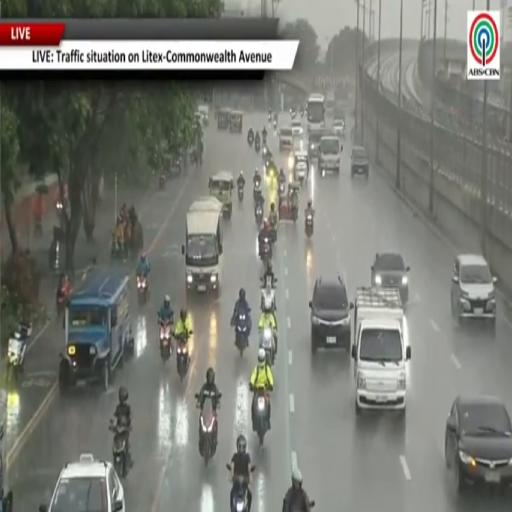bus: (307, 93, 325, 132)
car: (445, 396, 511, 492), (39, 454, 125, 511), (309, 277, 353, 354), (451, 254, 497, 325), (371, 252, 410, 305), (319, 135, 342, 175), (351, 147, 369, 178), (308, 132, 323, 158), (279, 127, 293, 150), (333, 117, 345, 138), (292, 120, 303, 136)
jeepney: (209, 171, 234, 218), (217, 108, 231, 130), (230, 111, 242, 133)
motorcycle: (6, 324, 31, 383), (200, 399, 217, 466), (110, 420, 129, 477), (254, 390, 269, 445), (261, 278, 277, 326), (261, 278, 277, 317), (231, 476, 248, 511), (235, 313, 248, 357), (177, 333, 189, 380), (260, 328, 275, 365), (159, 323, 172, 361), (57, 284, 72, 314), (261, 237, 272, 267), (137, 275, 148, 303), (270, 216, 278, 243), (255, 203, 263, 227), (305, 213, 313, 237), (254, 182, 262, 202), (291, 206, 298, 223), (237, 186, 244, 202), (159, 174, 166, 189), (254, 138, 261, 152), (279, 181, 285, 196), (248, 132, 254, 146), (290, 108, 296, 119), (262, 132, 266, 146), (300, 109, 305, 118), (273, 119, 277, 130), (268, 114, 272, 122)
truck: (352, 287, 410, 415), (182, 197, 223, 293)
